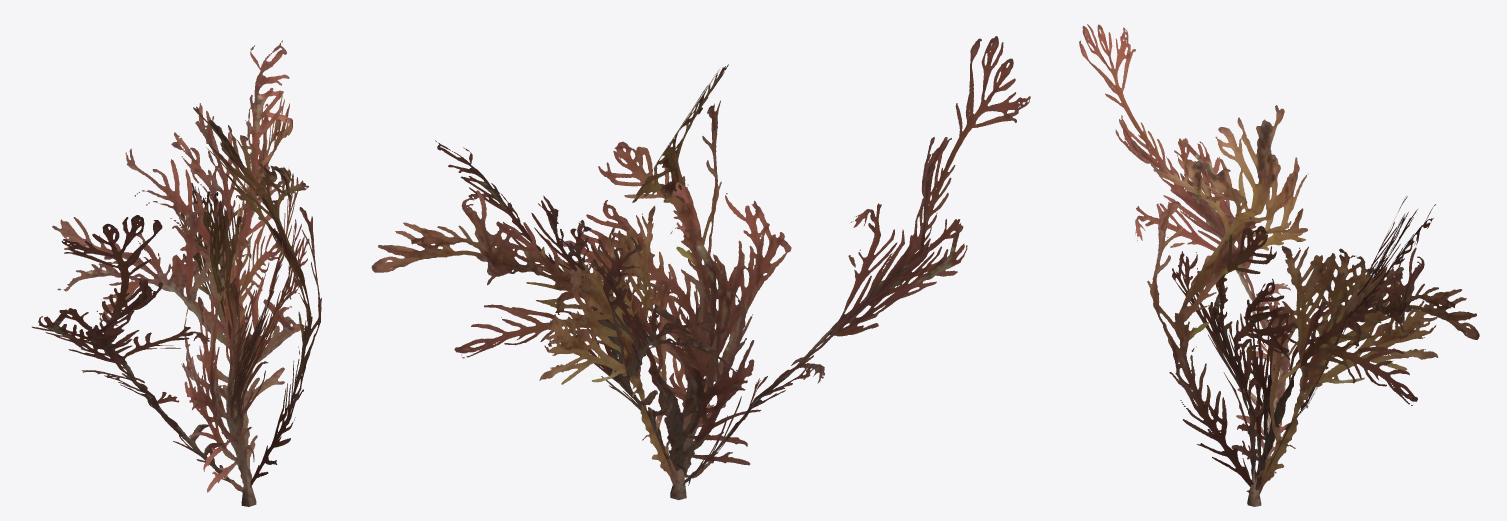
The model's file is seaweed_1_5.FBX.
3 renders of one model, left to right at view 1: azimuth 30°, elevation 25°; view 2: azimuth 150°, elevation 25°; view 3: azimuth 270°, elevation 25°, orthographic. The views are drawn at different scales.
Parts seen in each view (by area): view 1: seaweed_1_05; view 2: seaweed_1_05; view 3: seaweed_1_05.
Part boxes in pixels (x1,y1,x2,y2): seaweed_1_05: (32, 40, 321, 506); seaweed_1_05: (371, 36, 1030, 500); seaweed_1_05: (1079, 24, 1479, 506).
Size of the model in its own units: 35.34 by 32.65 by 31.69.
1 material, 1 textured.
